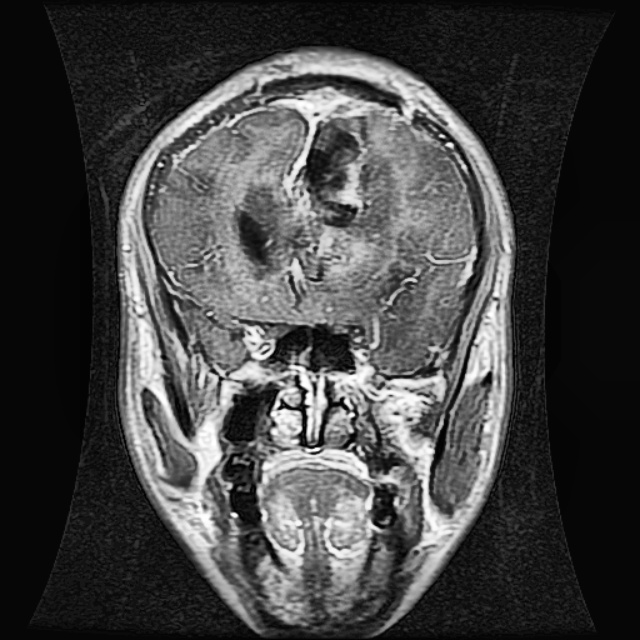Meningioma: (290, 109, 374, 225)
